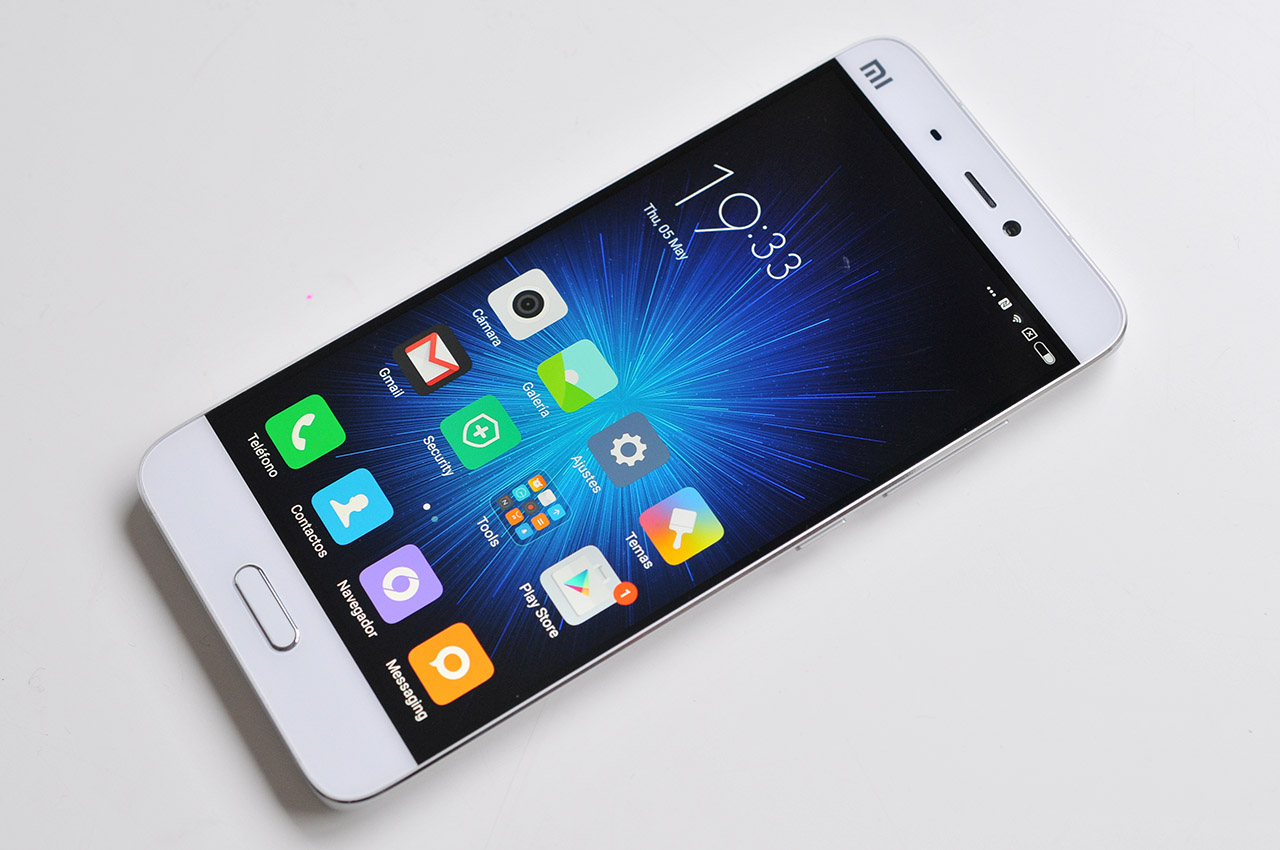smartphone: (137, 37, 1127, 810)
